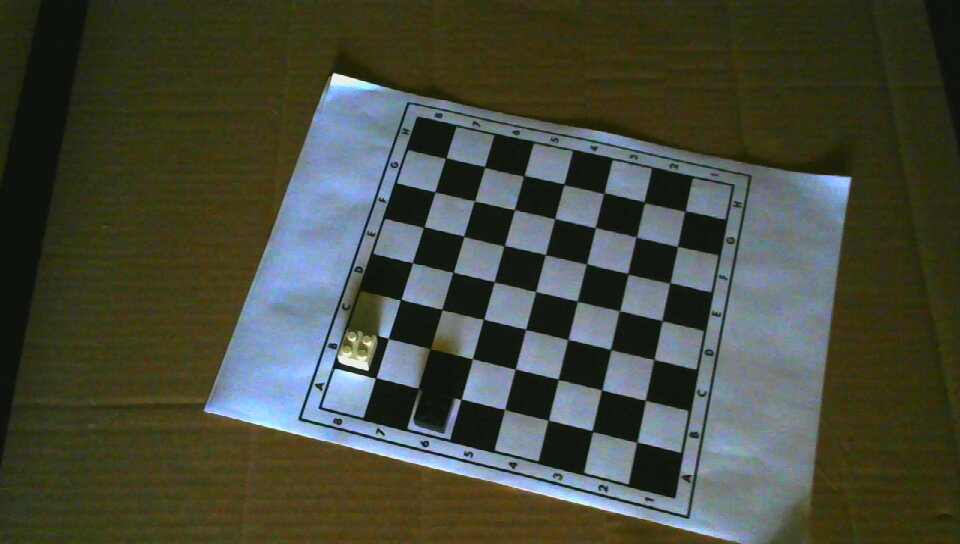bp: (413, 387, 455, 435)
wp: (337, 327, 378, 373)
